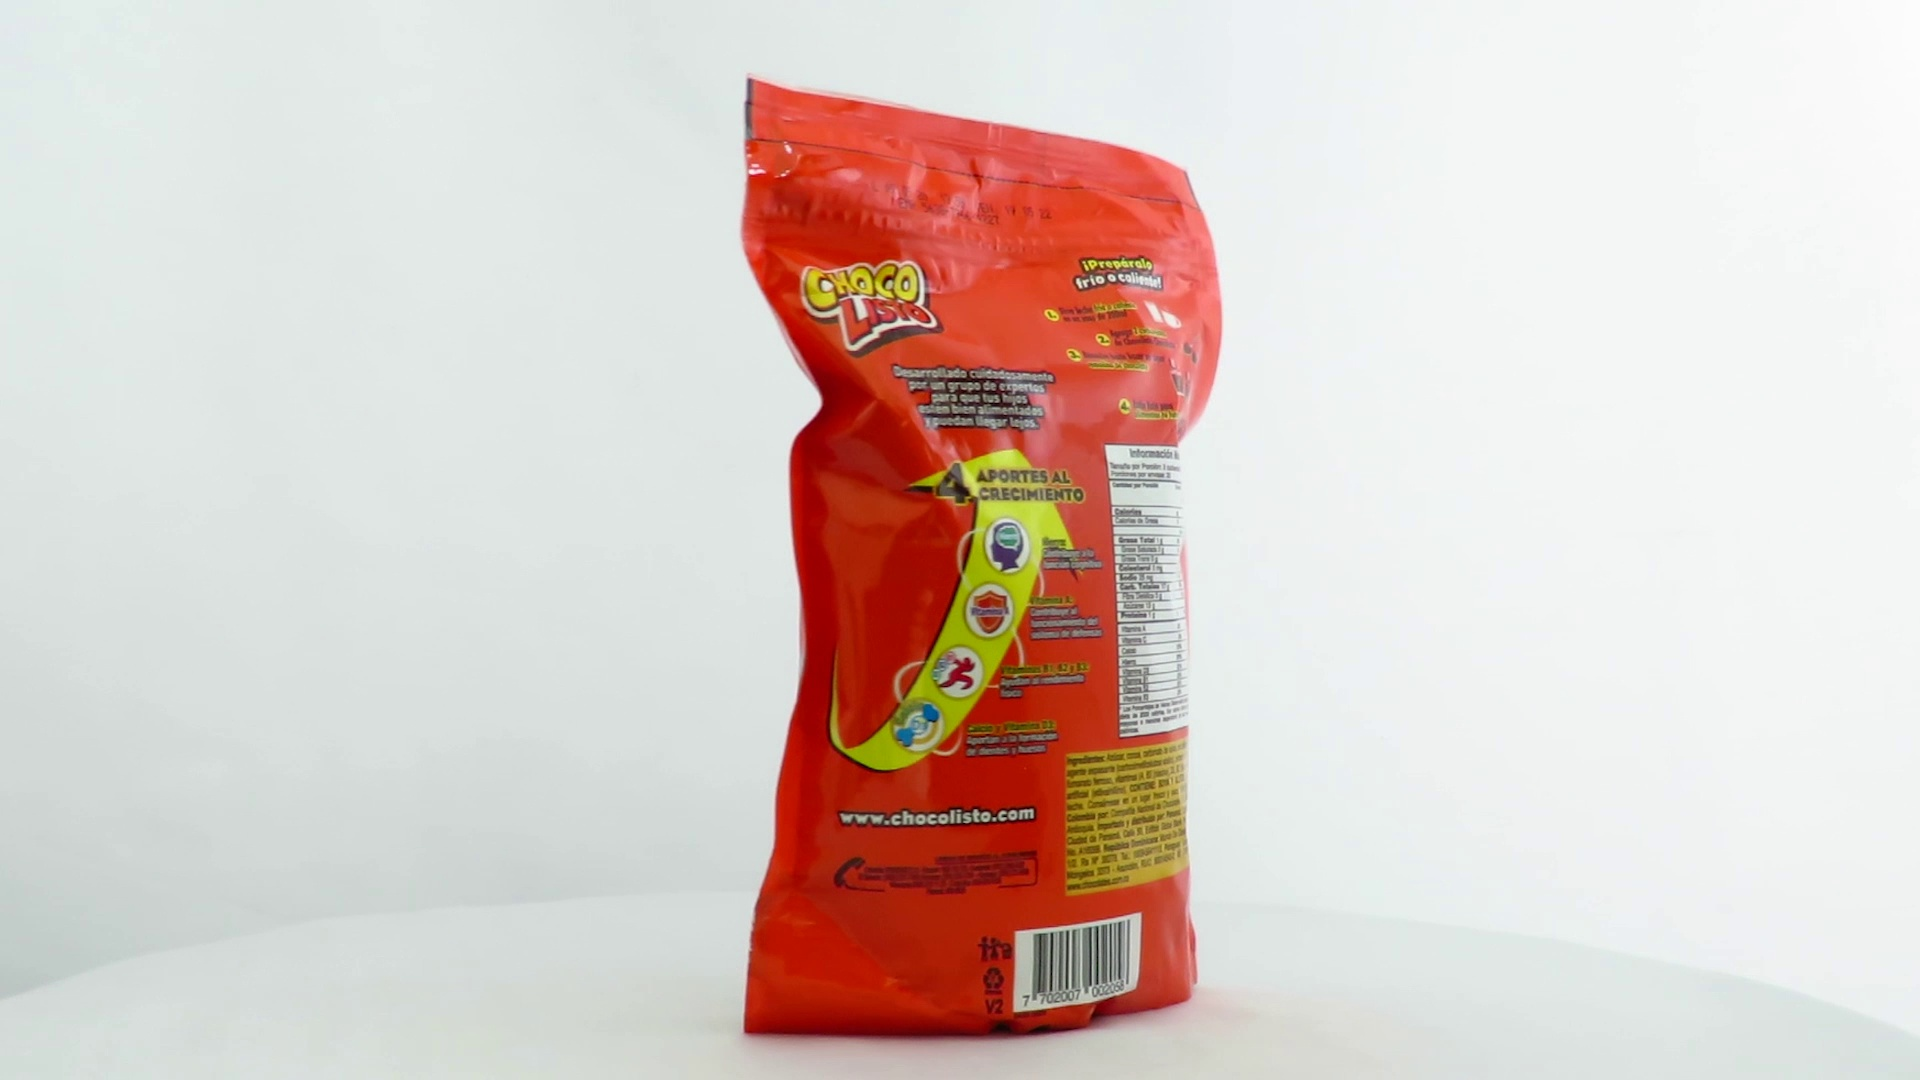COL0170103DYP40000: (735, 73, 1228, 1044)
